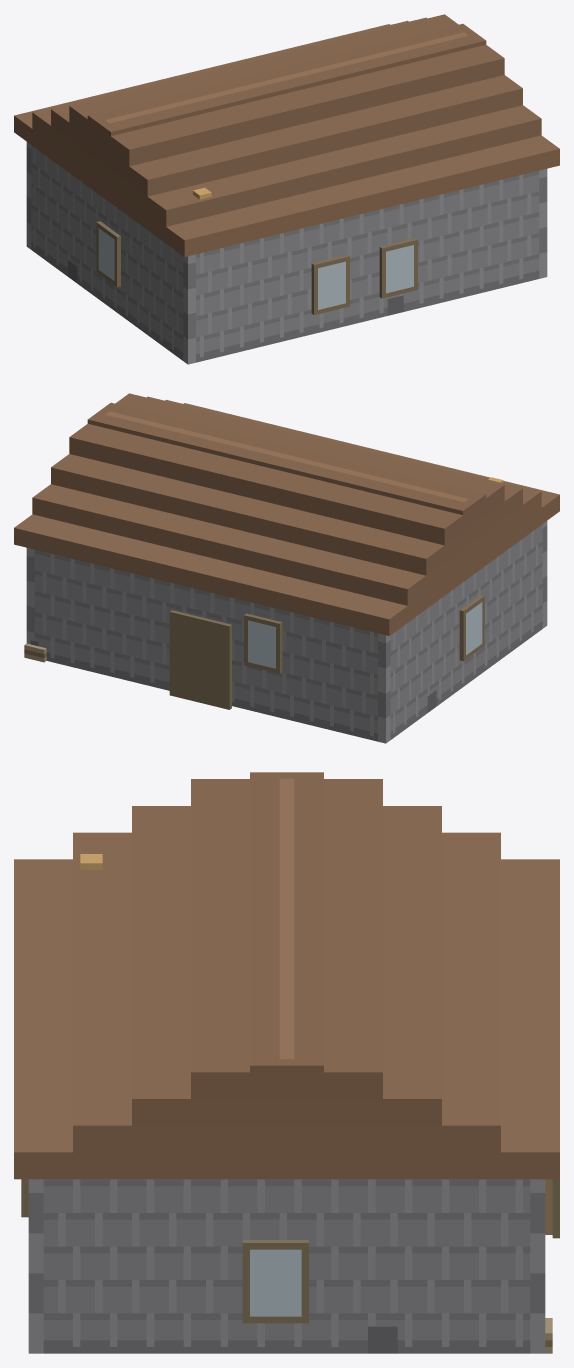
Rendered from destileria_01.glb.
The picture shows the model from 3 angles, top to bottom: view 1: azimuth 30°, elevation 25°; view 2: azimuth 150°, elevation 25°; view 3: azimuth 270°, elevation 25°; orthographic projection. The views are drawn at different scales.
Parts seen in each view (by area): view 1: destileria_01; view 2: destileria_01; view 3: destileria_01.
Boxes of the visible parts, left/top/right/bottom form: destileria_01: left=14, top=14, right=559, bottom=364; destileria_01: left=14, top=393, right=559, bottom=743; destileria_01: left=14, top=772, right=559, bottom=1353.
Size of the model in its own units: 9.4 by 4.4 by 7.4.
